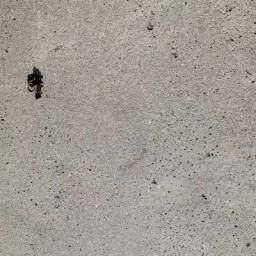FOD: (23, 67, 52, 106)
